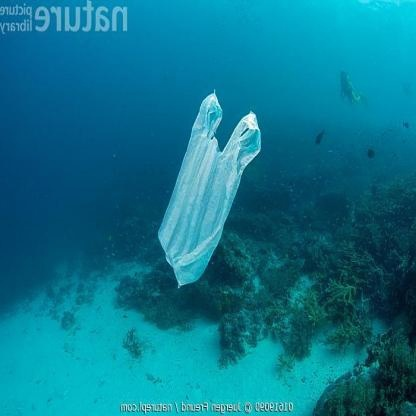pbag: (158, 91, 262, 286)
